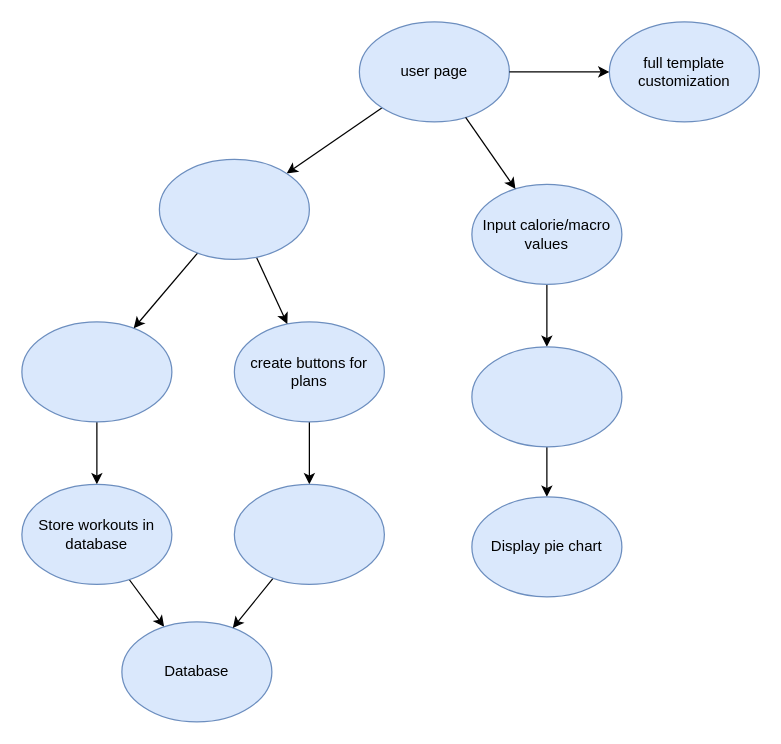
The diagram is 781 pixels wide and 744 high, and some of its shapes have lost their labels. The shapes that lost their labels are listed below. From the top down, each one's box as (x1, y1, x2, y2) in pixels, then its label:
(158, 158, 309, 259): workouts
(21, 321, 172, 422): UI: Save exercises, sets, reps
(471, 346, 622, 447): Counter for tracking totals
(233, 483, 384, 584): integrate button preset
